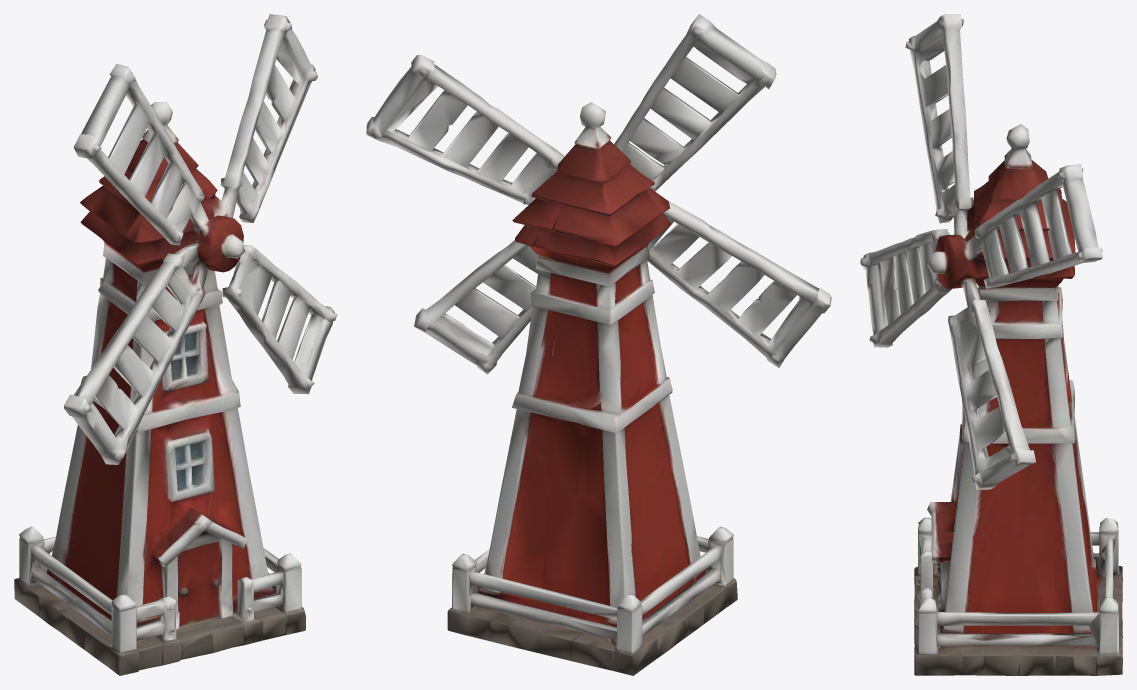
File: windmill.glb
3 views of the same model, side by side, from view 1: azimuth 30°, elevation 25°; view 2: azimuth 150°, elevation 25°; view 3: azimuth 270°, elevation 25° (orthographic).
Parts seen in each view (by area): view 1: windmill-node; view 2: windmill-node; view 3: windmill-node.
Part boxes in pixels (left/top/right/bottom): windmill-node: left=14, top=14, right=337, bottom=675; windmill-node: left=366, top=14, right=831, bottom=675; windmill-node: left=860, top=14, right=1122, bottom=675.
Bounding box in the file's own units: 0.6325 × 1 × 0.4078.
1 material, 1 textured.
